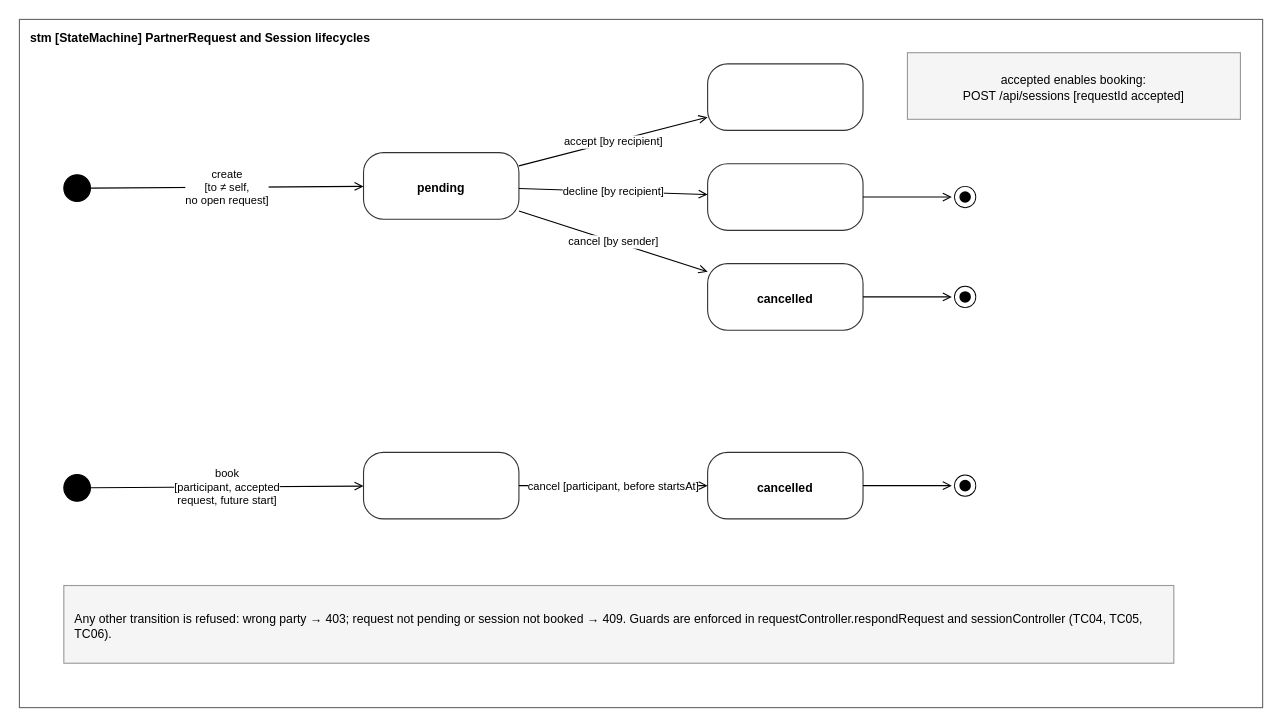
The diagram is 1282 pixels wide and 727 high, and some of its shapes have lost their labels. Here are the shapes that lost their labels. From the top down, the box of each, then its label:
(707, 63, 863, 130): accepted
(707, 163, 863, 230): declined
(362, 451, 519, 519): booked
